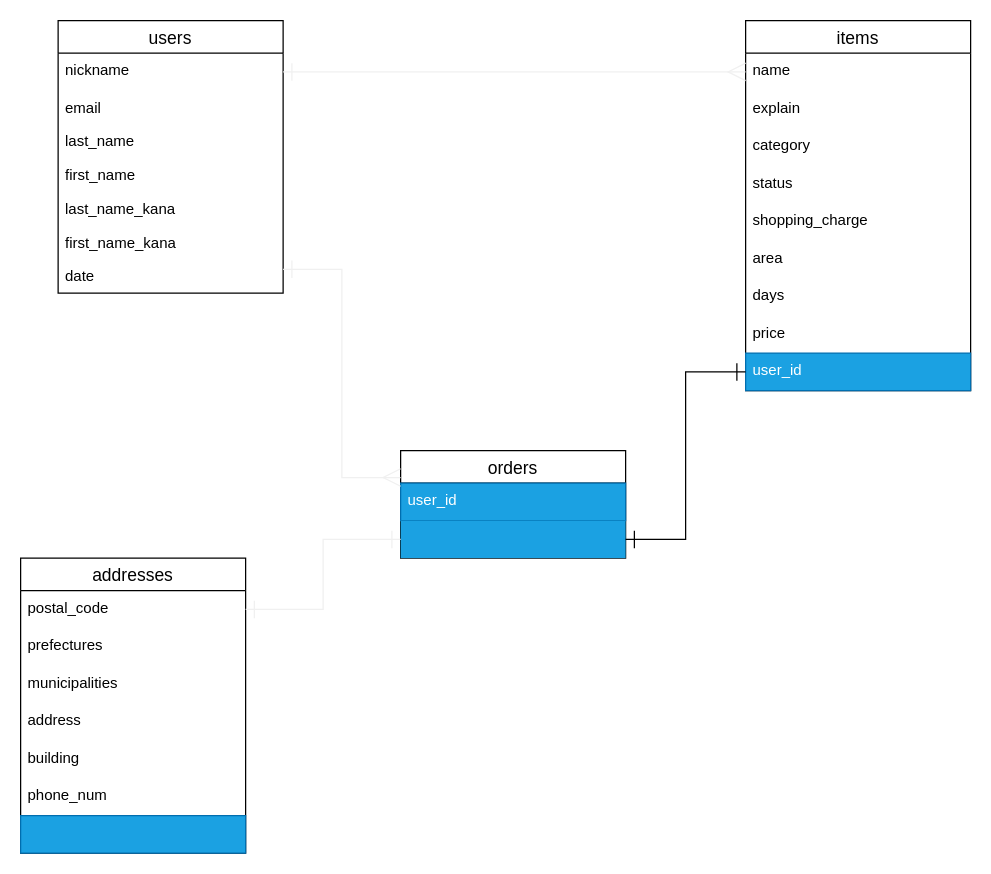
Image size: 991x874. Some labels were removed from this diagram. The centre of each missing label's shape, as x and y in pixels:
"item_id" goes at pixel 512 539.
"order_id" goes at pixel 132 833.
